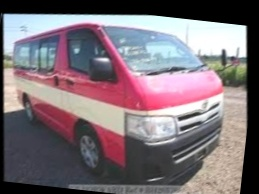van: (0, 2, 241, 194)
